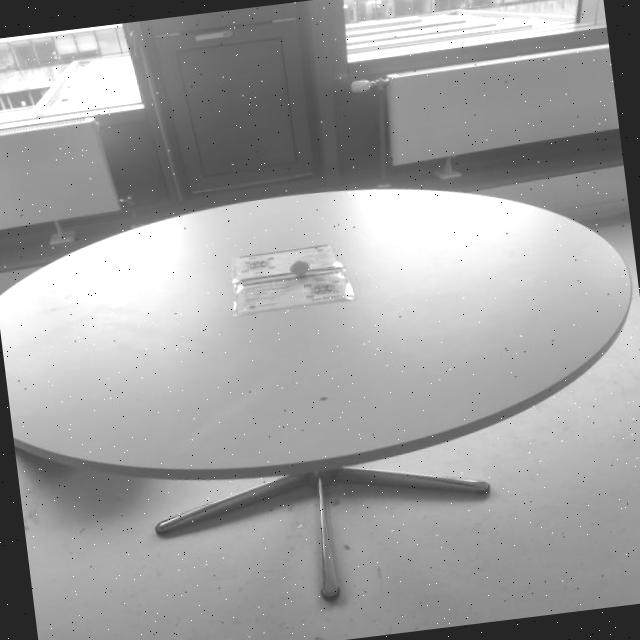ping-pong-ball: (285, 255, 312, 276)
